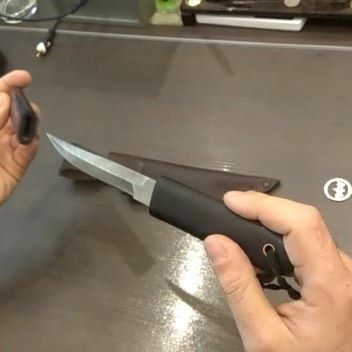knife: (45, 132, 293, 275)
